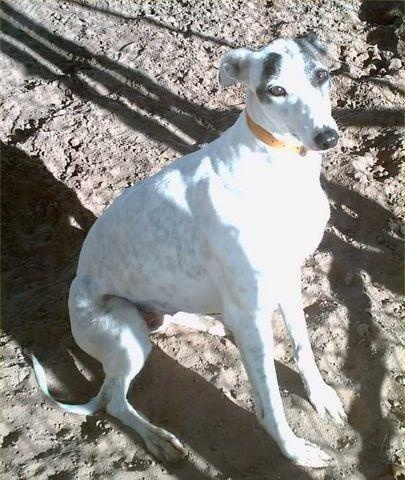dog: (32, 34, 344, 473)
